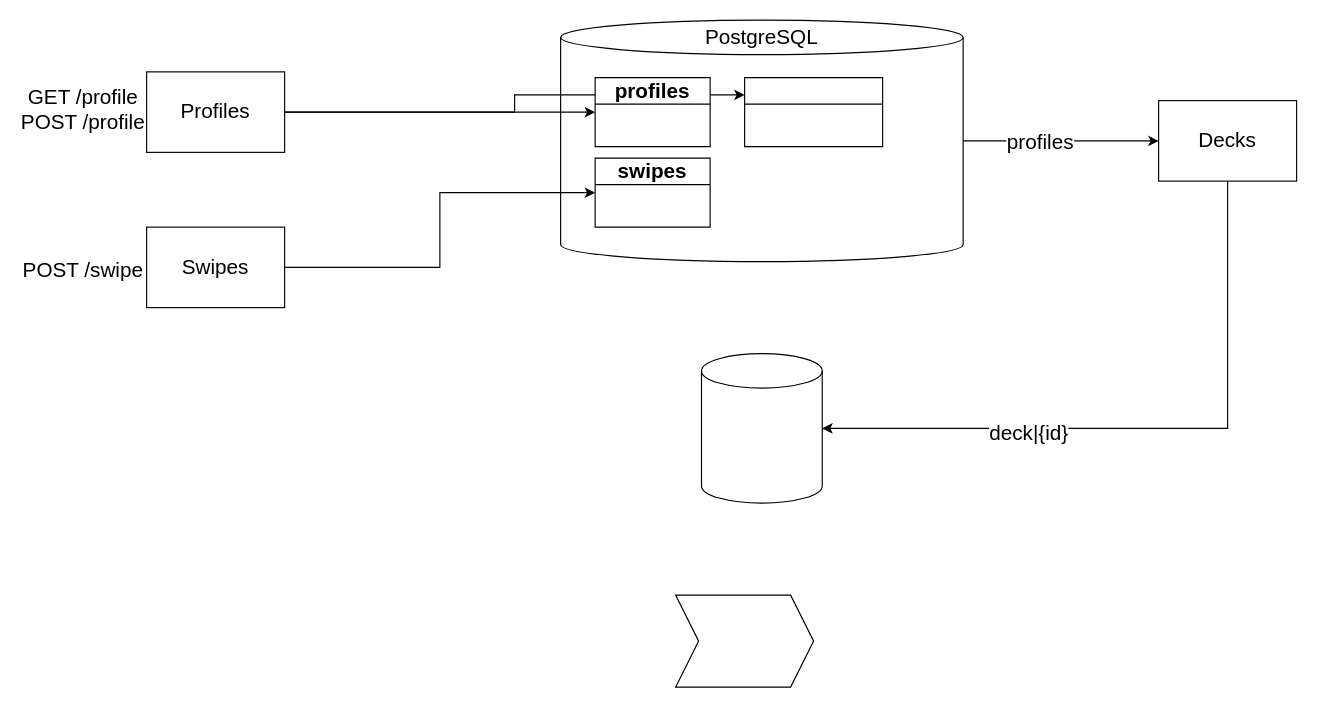
Image size: 1317x707. Some labels were removed from this diagram. The centre of each missing label's shape, as x and y in pixels:
Kafka: the point at 744,640
preferences: the point at 813,111
Redis: the point at 761,427
